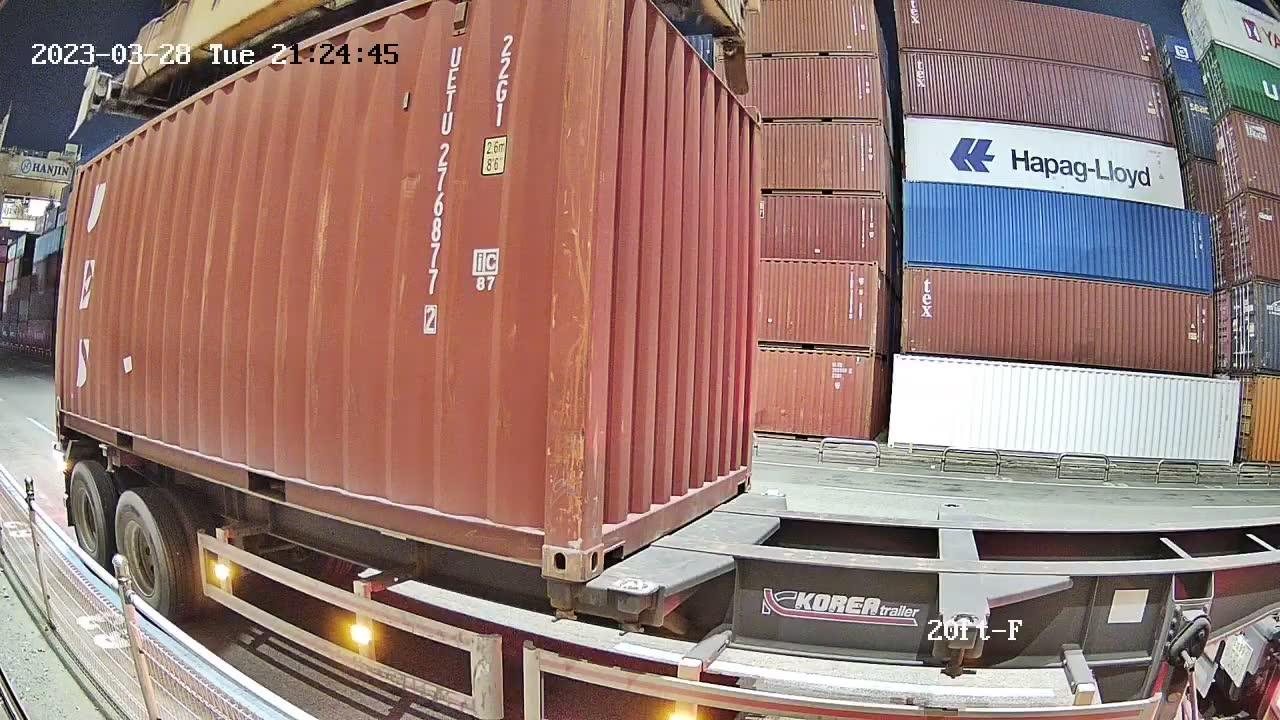Chassis: (617, 493, 784, 593)
Cone: (616, 578, 661, 636), (541, 577, 579, 623)
Hole_L: (578, 499, 629, 584)
Hole_R: (507, 505, 582, 584), (731, 452, 753, 498)
Tire: (113, 490, 173, 622), (69, 464, 110, 571)
